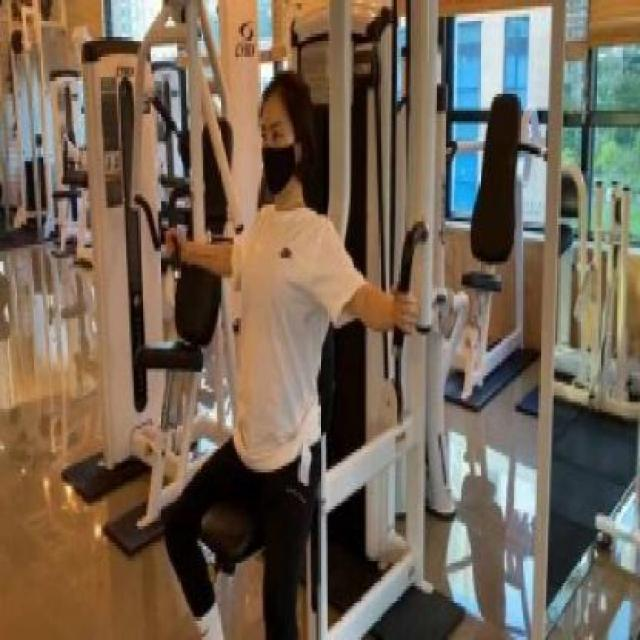chest fly machine: (102, 0, 466, 640)
